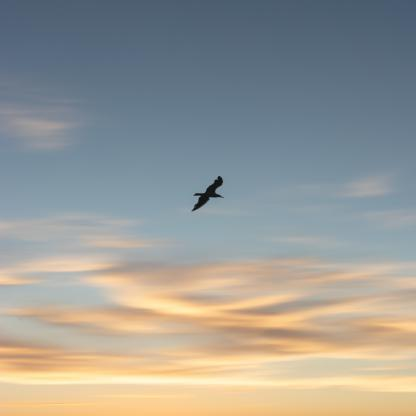bird: (192, 175, 224, 211)
